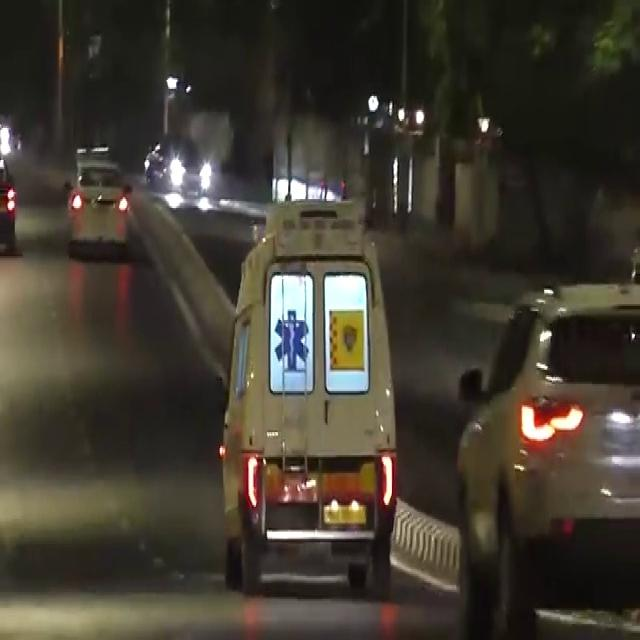ambulance: (210, 220, 408, 601)
